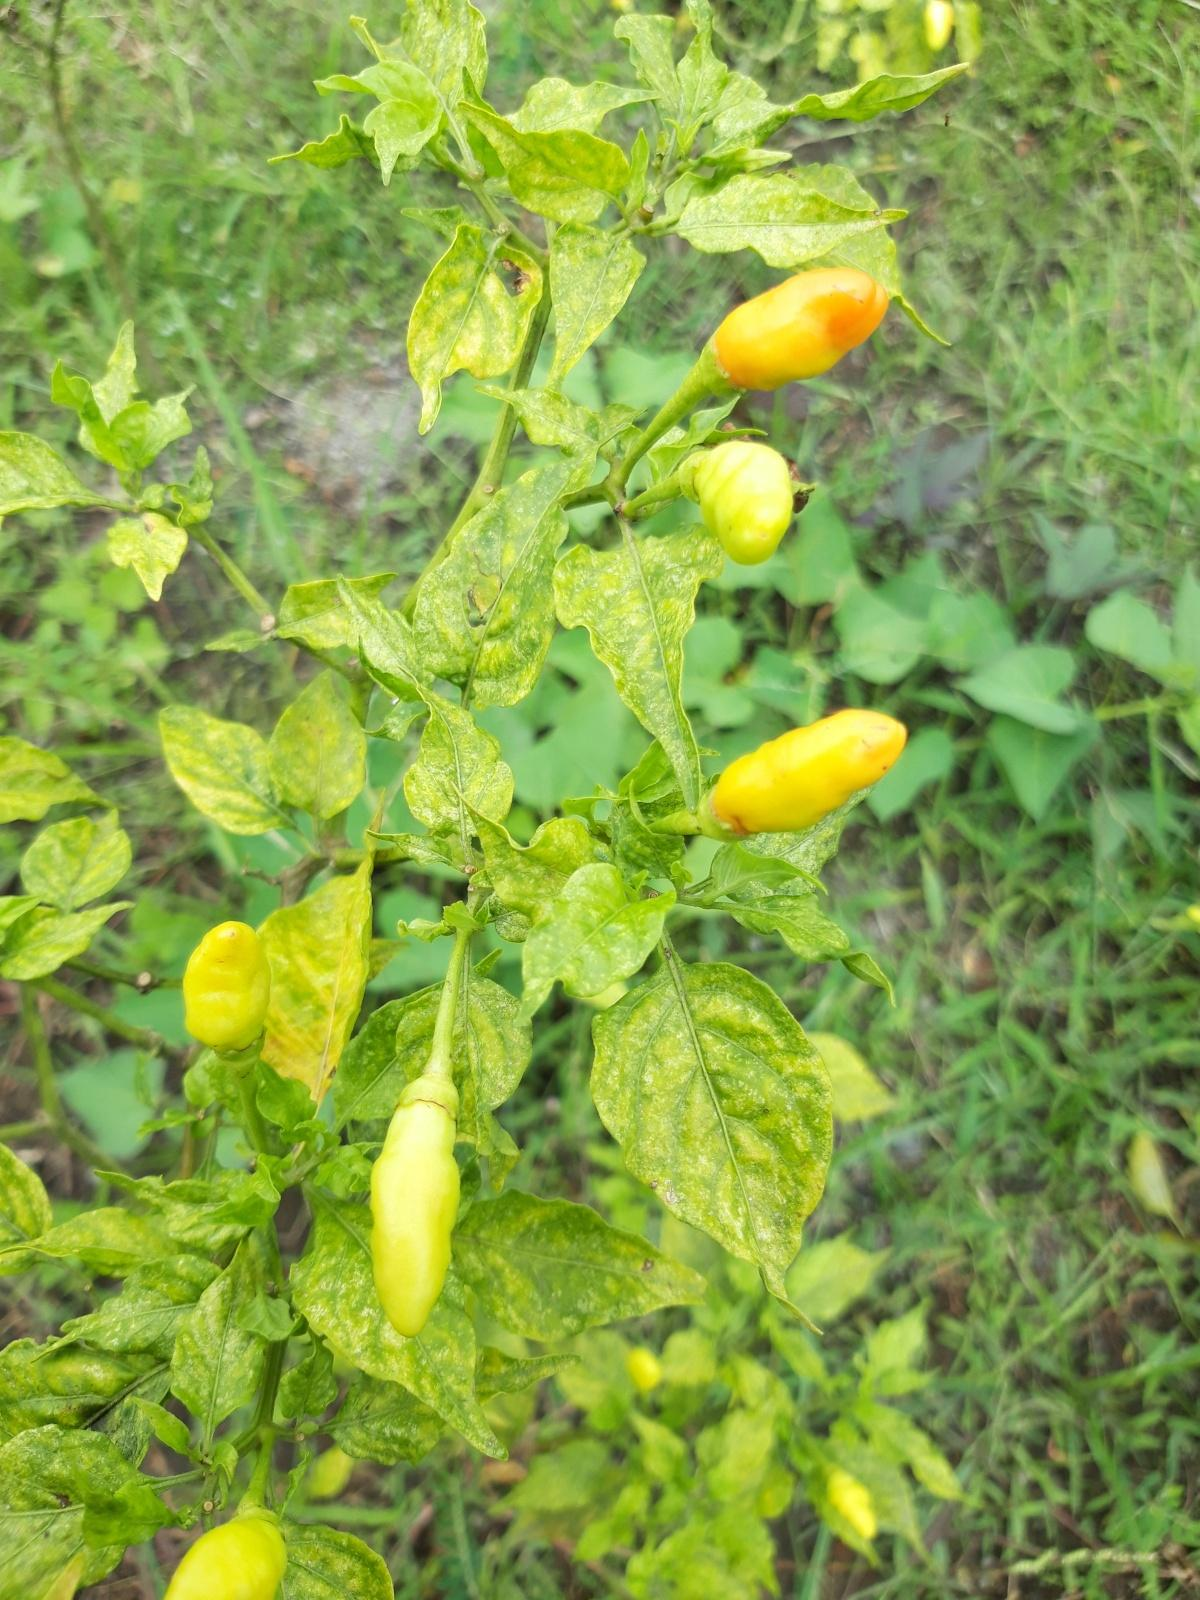cabai_normal: (708, 709, 905, 837), (715, 267, 892, 398), (368, 1099, 465, 1335), (677, 438, 795, 567), (183, 918, 274, 1057), (159, 1512, 290, 1600)
